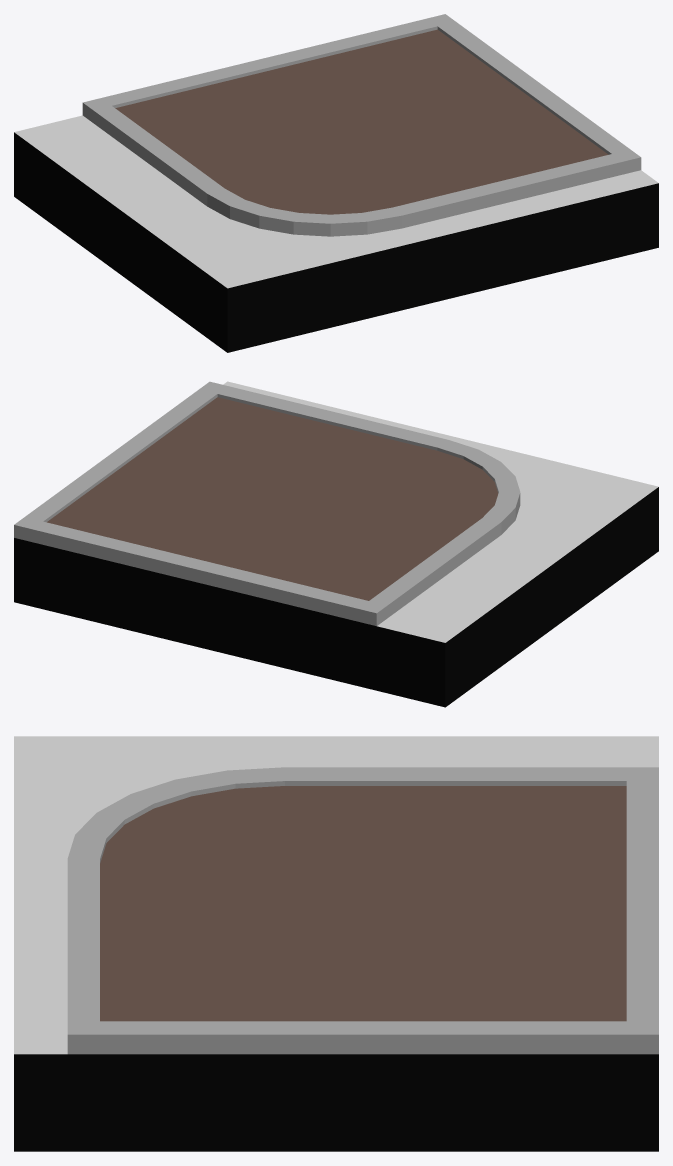
File: DarkStoneFloorLargeRaisedBed1.fbx
The picture shows the model from 3 angles, top to bottom: view 1: azimuth 30°, elevation 25°; view 2: azimuth 150°, elevation 25°; view 3: azimuth 270°, elevation 25°; orthographic projection. The views are drawn at different scales.
Visible parts, largest first — view 1: Ground, Soil, StoneBorder; view 2: Ground, Soil, StoneBorder; view 3: Soil, Ground, StoneBorder.
Part boxes in pixels (x1,y1,x2,y2): Ground: (14, 115, 658, 352); Soil: (115, 29, 608, 214); StoneBorder: (82, 14, 641, 236); Ground: (14, 381, 658, 707); Soil: (47, 397, 498, 600); StoneBorder: (14, 381, 520, 626); Soil: (100, 786, 626, 1021); Ground: (14, 736, 658, 1151); StoneBorder: (67, 767, 658, 1054).
Size of the model in its own units: 700 by 120 by 600.
